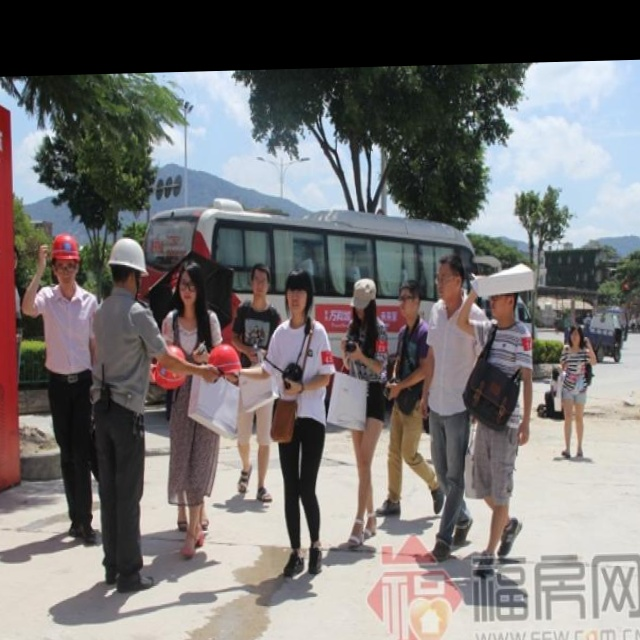Sin_Casco_Mascarrilla: (283, 264, 316, 321), (175, 262, 207, 308), (397, 278, 424, 323)
